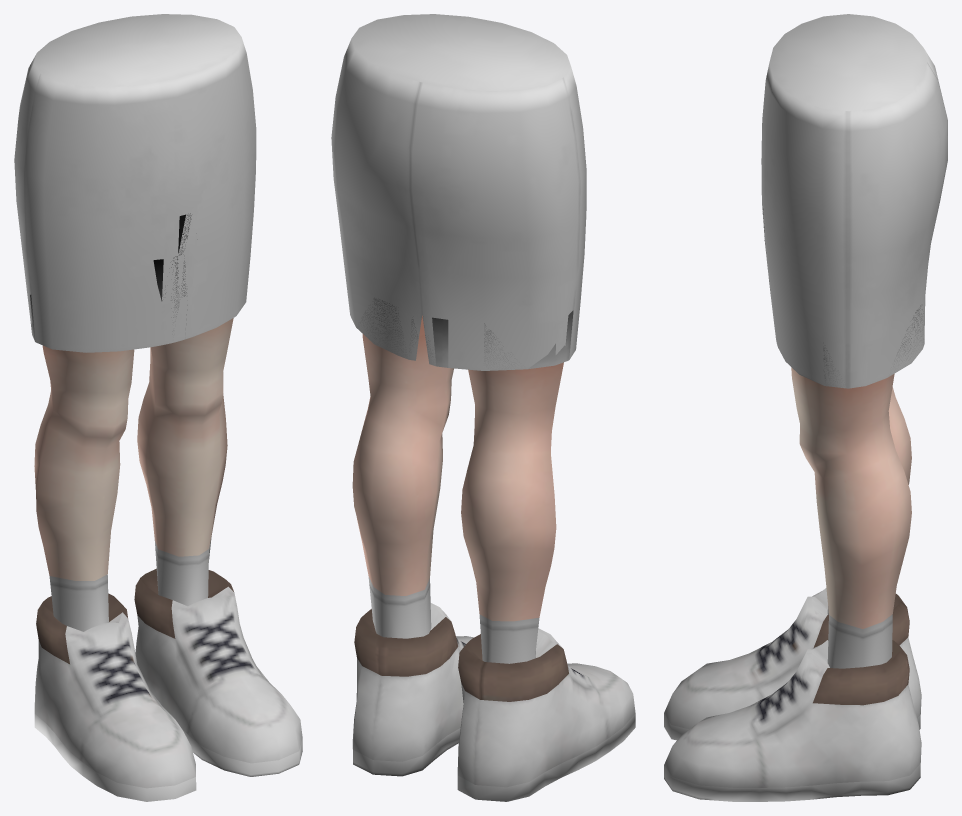
File: tr0770_00_lwb02.gltf
The picture shows the model from 3 angles, left to right: view 1: azimuth 30°, elevation 25°; view 2: azimuth 150°, elevation 25°; view 3: azimuth 270°, elevation 25°; orthographic projection. The views are drawn at different scales.
Visible parts, largest first — view 1: lwb02_lowerbody_mesh_shape:lowerbody02, lwb02_shoes_mesh_shape:lowerbody02, lwb02_lowerskin_mesh_shape:lowerbody02_skin; view 2: lwb02_lowerbody_mesh_shape:lowerbody02, lwb02_shoes_mesh_shape:lowerbody02, lwb02_lowerskin_mesh_shape:lowerbody02_skin; view 3: lwb02_lowerbody_mesh_shape:lowerbody02, lwb02_shoes_mesh_shape:lowerbody02, lwb02_lowerskin_mesh_shape:lowerbody02_skin.
Boxes of the visible parts, box(x1,y1,x2,y2) form: lwb02_lowerbody_mesh_shape:lowerbody02: box(14, 14, 256, 352); lwb02_shoes_mesh_shape:lowerbody02: box(34, 538, 302, 801); lwb02_lowerskin_mesh_shape:lowerbody02_skin: box(34, 318, 233, 580); lwb02_lowerbody_mesh_shape:lowerbody02: box(331, 14, 586, 370); lwb02_shoes_mesh_shape:lowerbody02: box(352, 577, 635, 801); lwb02_lowerskin_mesh_shape:lowerbody02_skin: box(352, 315, 563, 621); lwb02_lowerbody_mesh_shape:lowerbody02: box(761, 14, 947, 388); lwb02_shoes_mesh_shape:lowerbody02: box(664, 588, 921, 801); lwb02_lowerskin_mesh_shape:lowerbody02_skin: box(791, 367, 911, 628).
Size of what is drawn, in the model's own units: 0.3372 by 0.9573 by 0.3565.
Materials: 2 (2 with a texture image).
